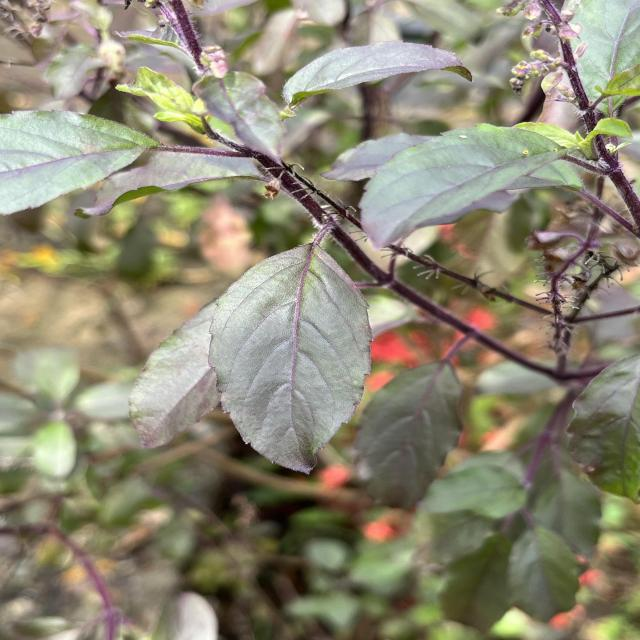Ocimum tenuiflorum: (207, 242, 376, 476)
